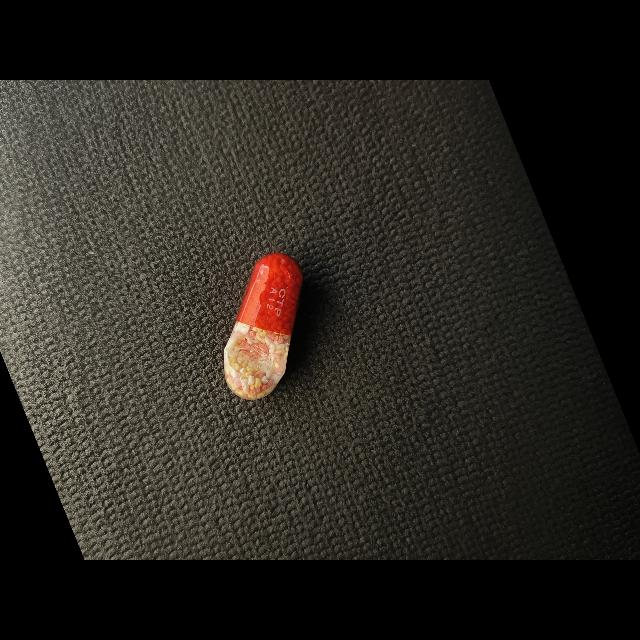Defective Capsule: (224, 253, 303, 400)
